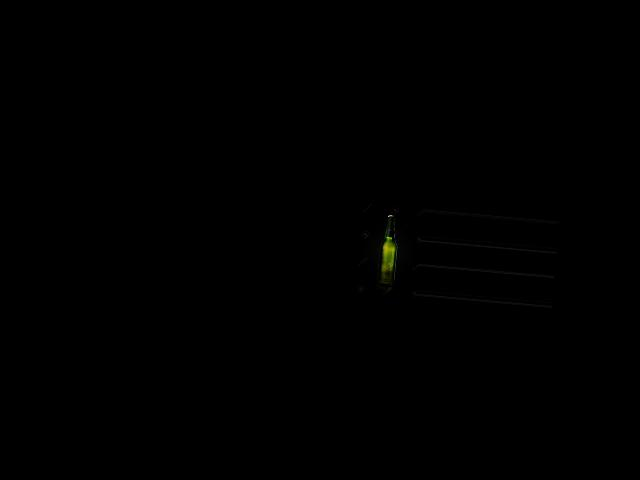beer: (377, 213, 400, 287)
